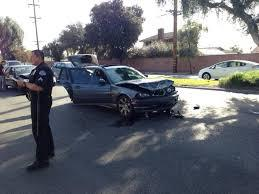bonnet-dent: (119, 76, 175, 90)
